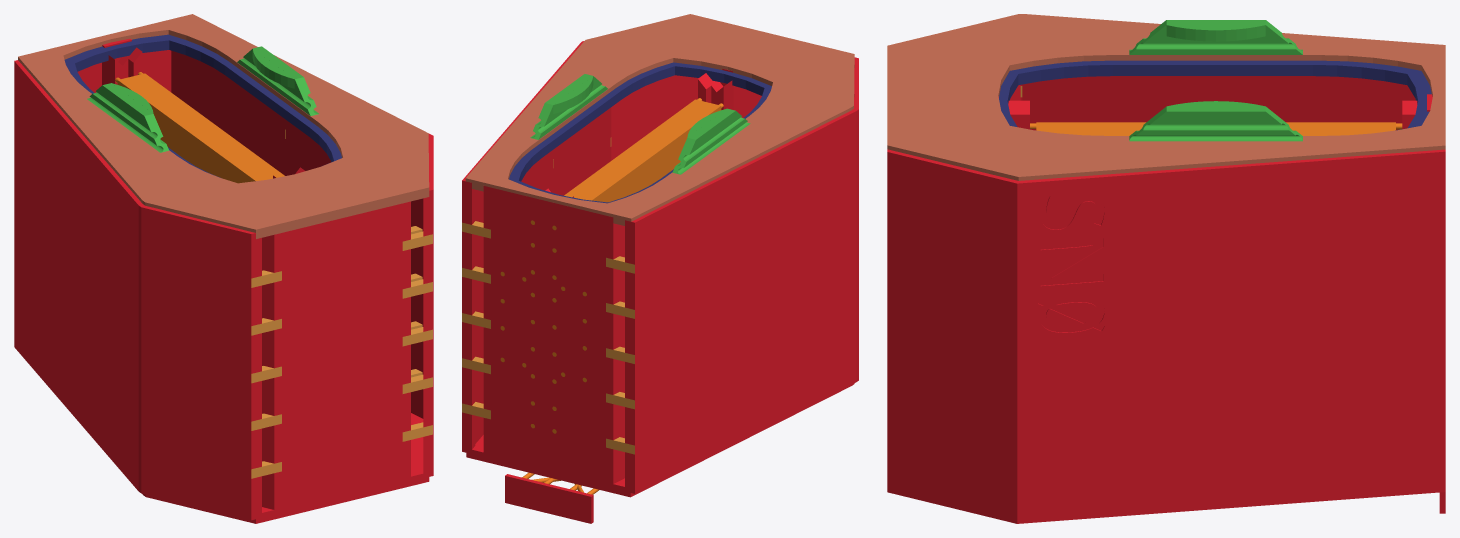
Rendered from tinker.obj.
3 views of the same model, side by side, from view 1: azimuth 30°, elevation 25°; view 2: azimuth 150°, elevation 25°; view 3: azimuth 270°, elevation 25° (orthographic). The views are drawn at different scales.
Visible parts, largest first — view 1: group_0_15277357, group_0_13463636, group_0_16089887, group_0_3356795, group_0_4634441, group_0_15506754; view 2: group_0_15277357, group_0_13463636, group_0_16089887, group_0_3356795, group_0_4634441, group_0_15506754; view 3: group_0_15277357, group_0_13463636, group_0_4634441, group_0_3356795, group_0_16089887.
Boxes of the visible parts, x1,y1,x2,y2 form: group_0_15277357: (14,38,433,523); group_0_13463636: (18,14,429,238); group_0_16089887: (115,72,284,183); group_0_3356795: (64,34,341,177); group_0_4634441: (87,46,318,152); group_0_15506754: (251,129,432,478); group_0_15277357: (462,41,858,523); group_0_13463636: (465,14,854,225); group_0_16089887: (500,98,723,494); group_0_3356795: (509,62,771,203); group_0_4634441: (530,74,750,174); group_0_15506754: (462,137,634,454); group_0_15277357: (887,76,1445,523); group_0_13463636: (887,14,1445,180); group_0_4634441: (1129,20,1302,141); group_0_3356795: (999,60,1431,130); group_0_16089887: (1030,122,1402,135).
Size of the model in its own units: 64.18 by 75 by 90.
